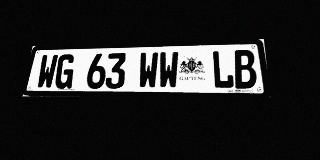3: (105, 53, 126, 89)
6: (86, 53, 108, 89)
B: (233, 50, 258, 89)
G: (53, 54, 76, 89)
L: (211, 50, 235, 89)
W: (138, 52, 159, 89), (158, 52, 179, 89), (36, 54, 58, 89)
